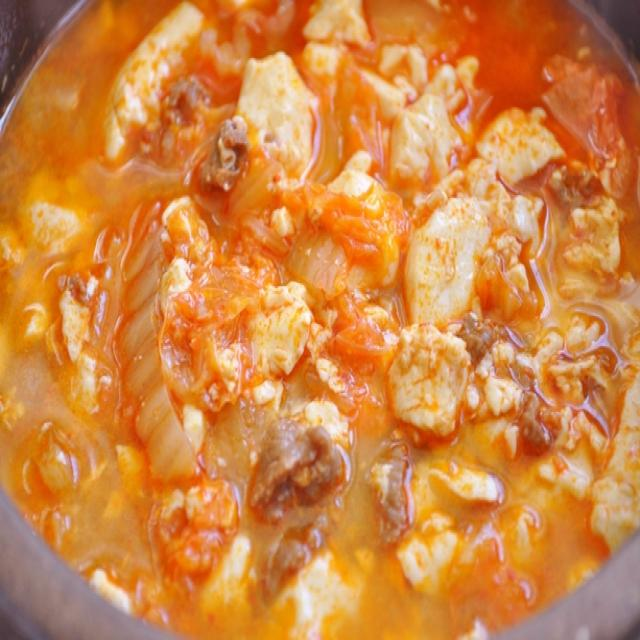汤锅炖物: (14, 16, 617, 629)
